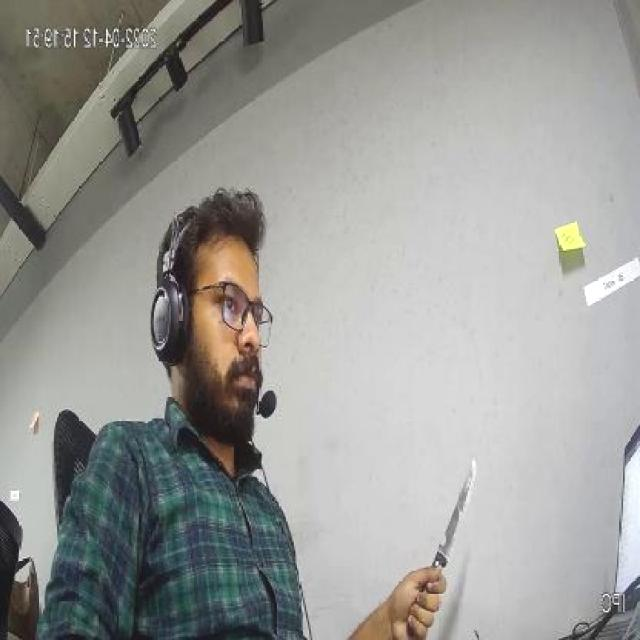knife: (431, 440, 483, 582)
